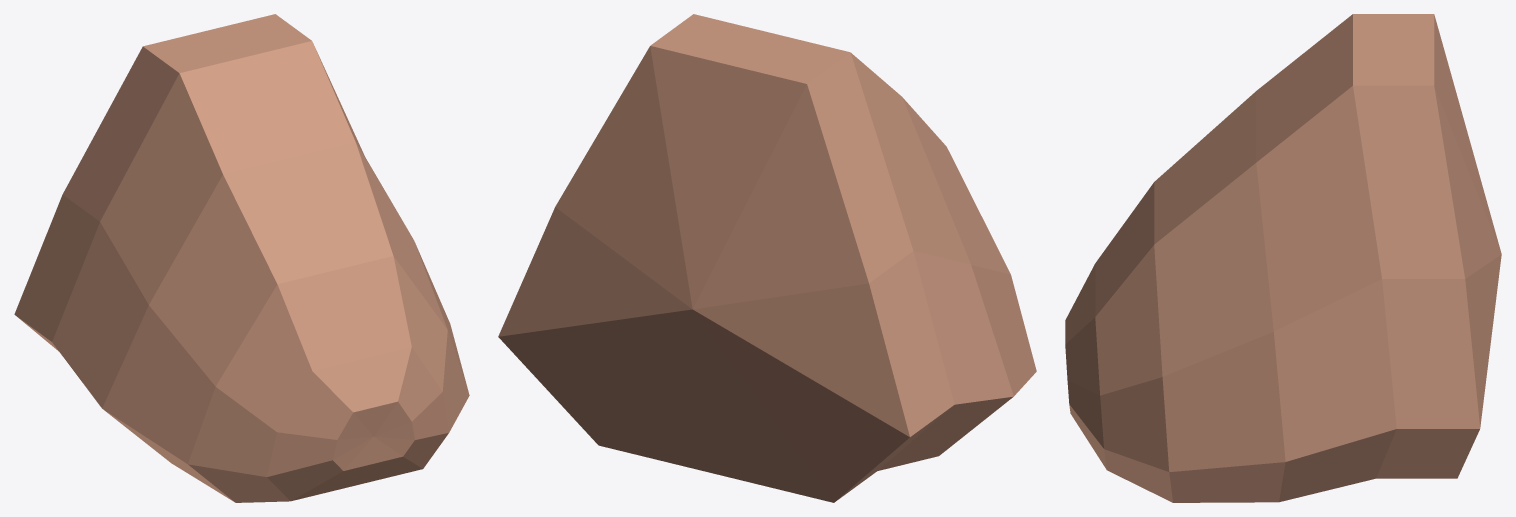
The model's file is nose_dw_broad.glb.
3 renders of one model, left to right at view 1: azimuth 30°, elevation 25°; view 2: azimuth 150°, elevation 25°; view 3: azimuth 270°, elevation 25°, orthographic. The views are drawn at different scales.
Parts seen in each view (by area): view 1: Snout; view 2: Snout; view 3: Snout.
Boxes of the visible parts, x1,y1,x2,y2 form: Snout: (14,14,469,502); Snout: (498,14,1036,502); Snout: (1065,14,1501,502).
Bounding box in the file's own units: 0.042 × 0.0421 × 0.0411.
1 material, 1 textured.
